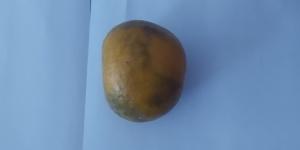BAD: (99, 21, 191, 124)
